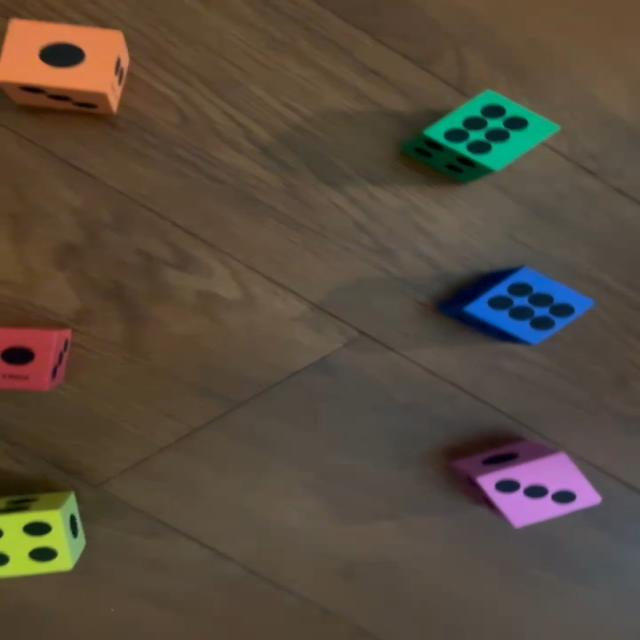blue_block: (446, 268, 594, 346)
red_block: (0, 324, 76, 392)
